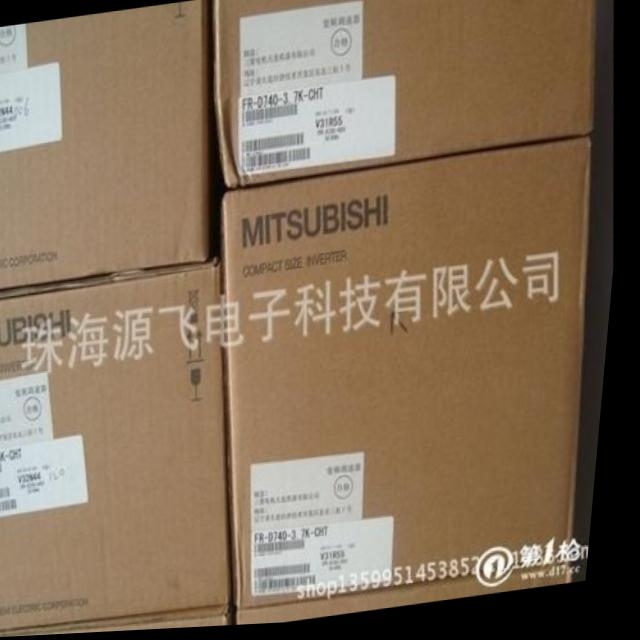box: (225, 141, 597, 612), (0, 262, 241, 633), (214, 0, 597, 192), (0, 0, 213, 294), (248, 570, 584, 628), (0, 609, 245, 638)
